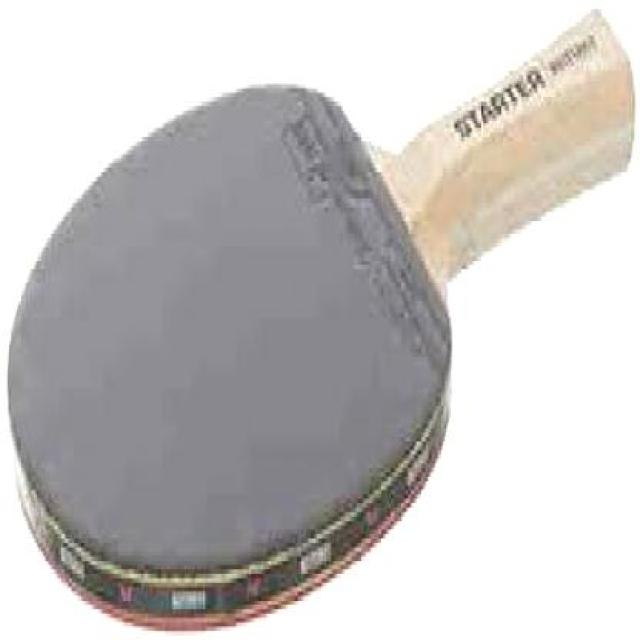table_tennis_racket: (6, 60, 454, 638)
